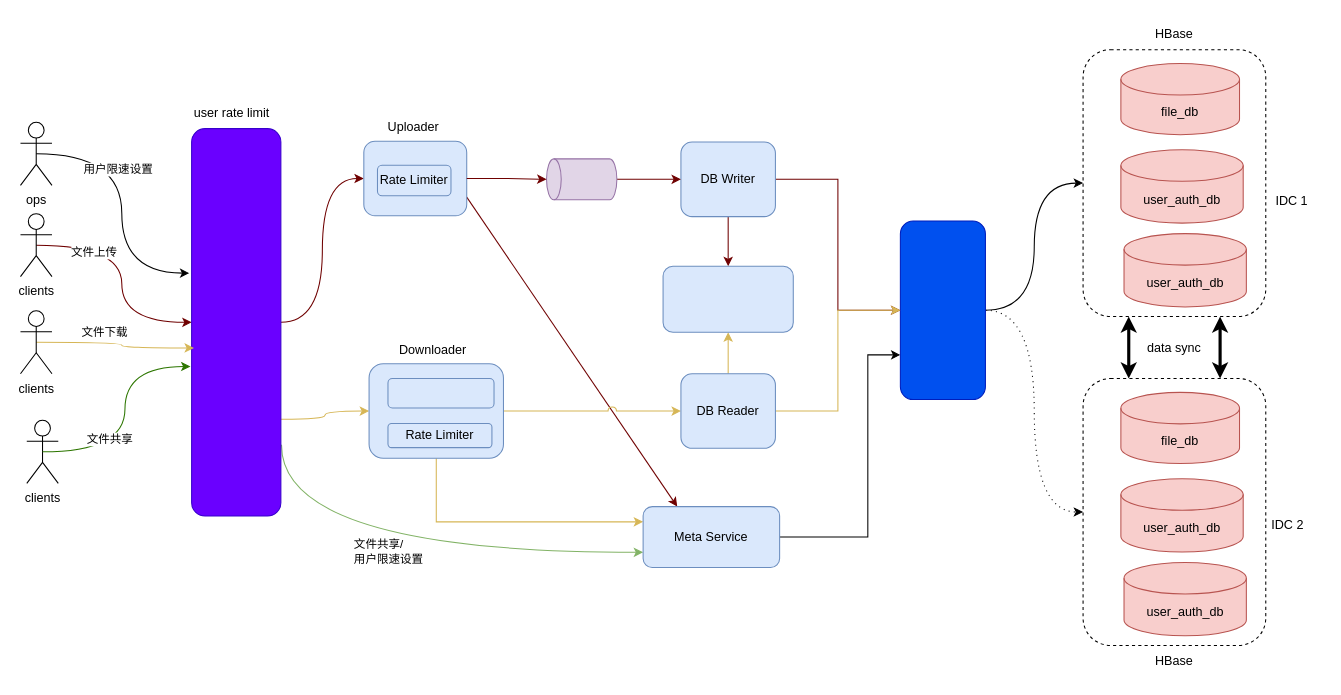
Image size: 1341x695. Some labels were removed from this diagram. The centre of each missing label's shape, as x and y in pixels:
Access Controler: [440,392]
API Gateway: [236,322]
Encryptor/Decryptor: [727,298]
GSLB: [942,310]
MQ: [581,179]
